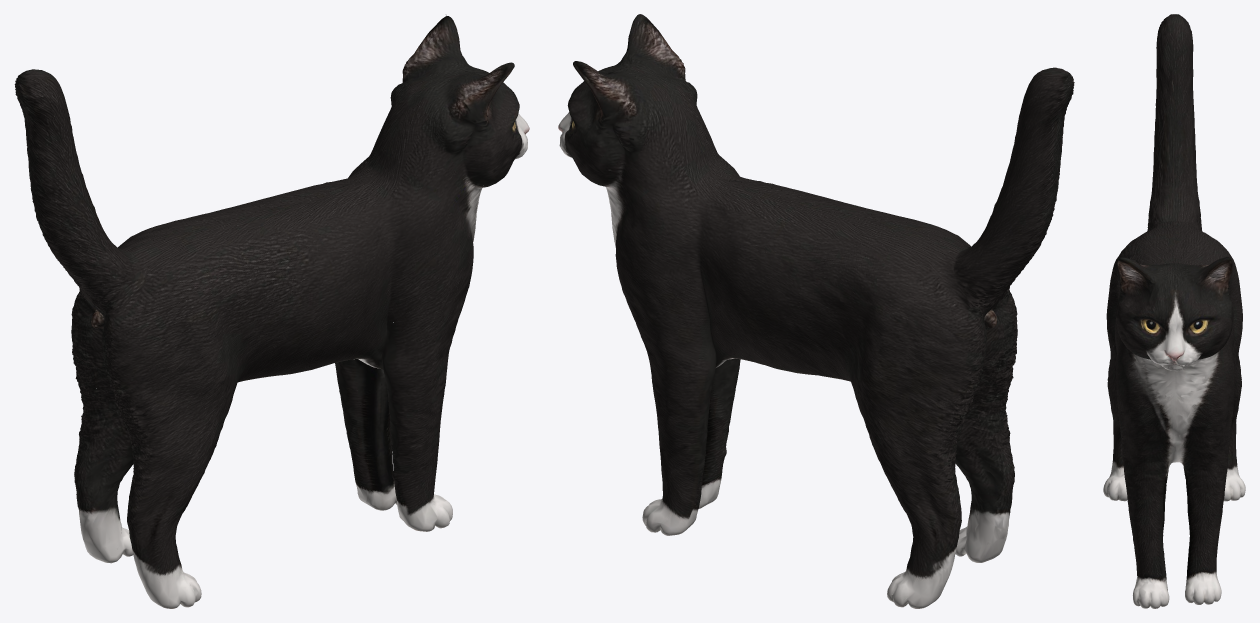
The model's file is GUPPYCAT.glb.
3 renders of one model, left to right at view 1: azimuth 30°, elevation 25°; view 2: azimuth 150°, elevation 25°; view 3: azimuth 270°, elevation 25°, orthographic. The views are drawn at different scales.
Visible parts, largest first — view 1: tripo_node_c96a7cd2-f892-4710-9491-c2c31c7533e2; view 2: tripo_node_c96a7cd2-f892-4710-9491-c2c31c7533e2; view 3: tripo_node_c96a7cd2-f892-4710-9491-c2c31c7533e2.
Boxes of the visible parts, x1,y1,x2,y2 form: tripo_node_c96a7cd2-f892-4710-9491-c2c31c7533e2: [14, 15, 529, 608]; tripo_node_c96a7cd2-f892-4710-9491-c2c31c7533e2: [558, 14, 1074, 608]; tripo_node_c96a7cd2-f892-4710-9491-c2c31c7533e2: [1103, 14, 1245, 608].
Size of the model in its own units: 0.9987 by 0.9998 by 0.2964.
1 material, 1 textured.
